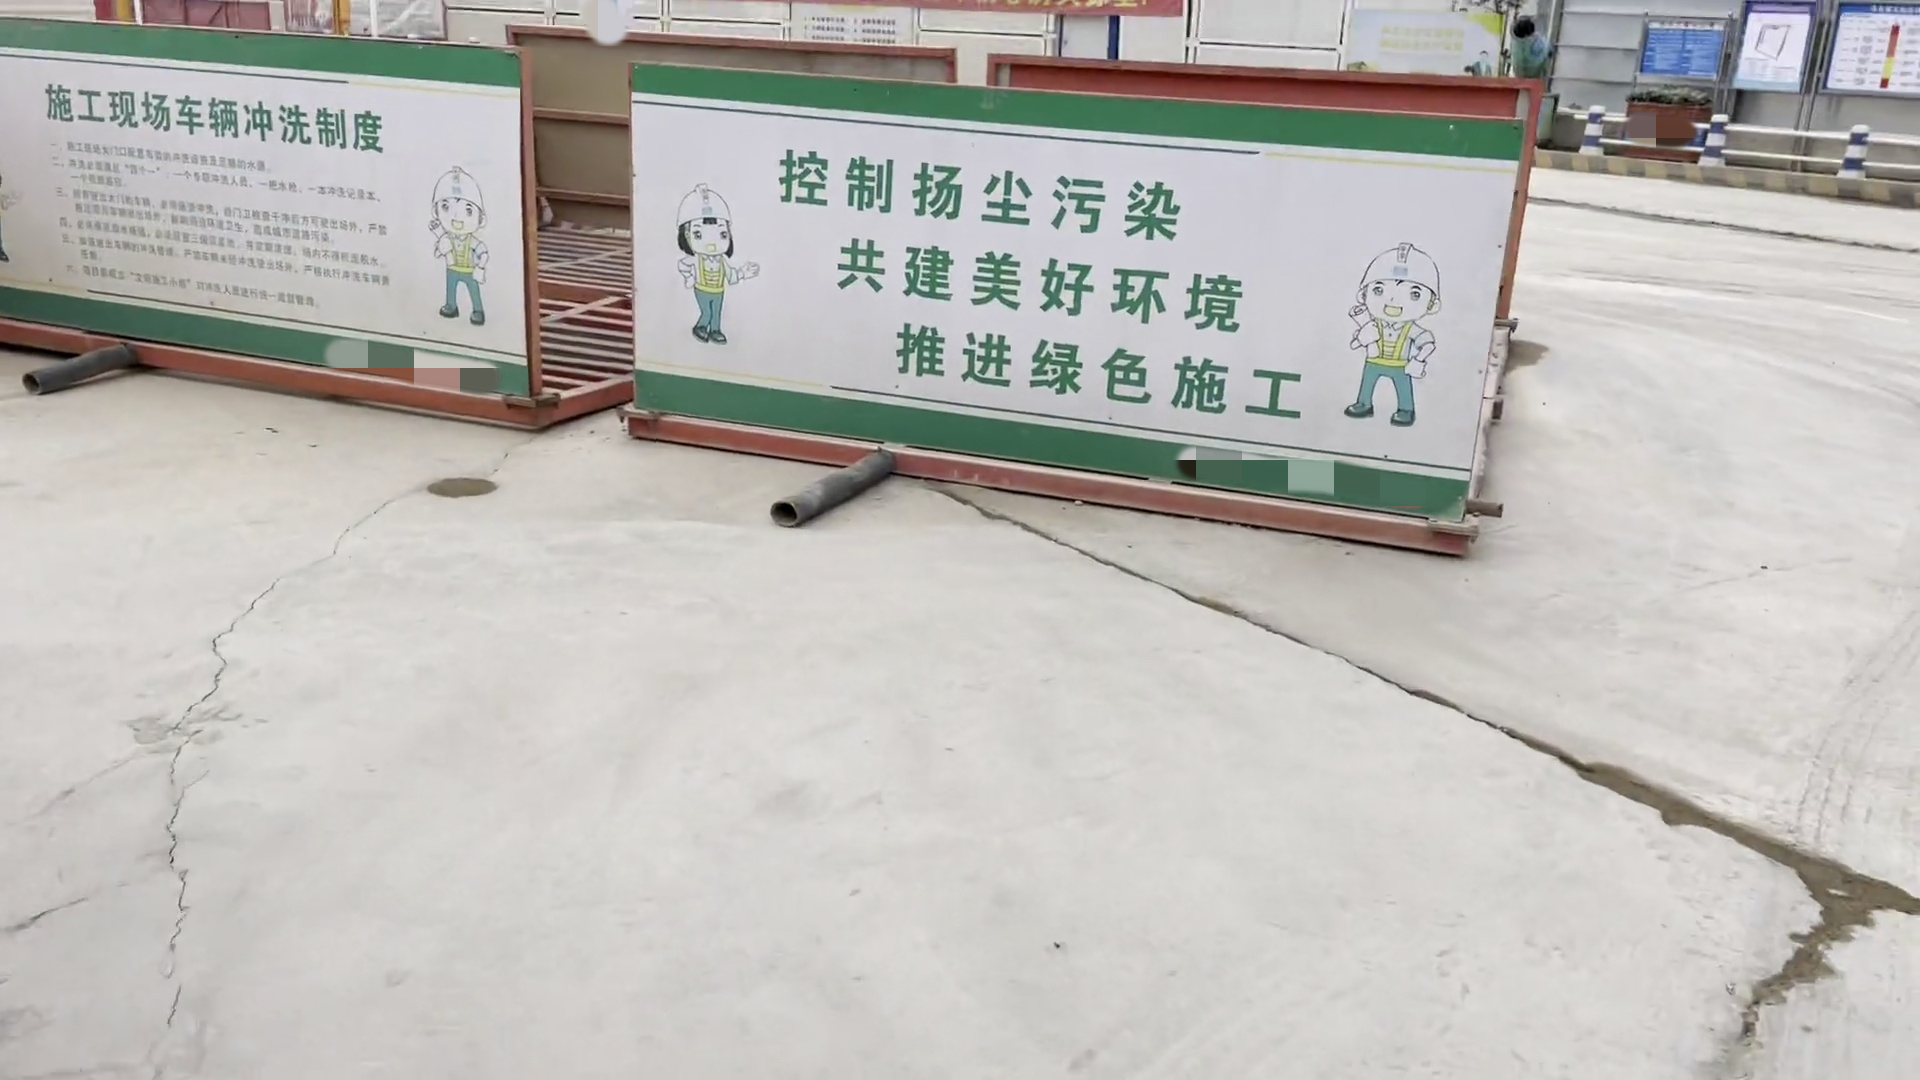slogan: (622, 74, 1485, 512), (18, 55, 487, 382)
